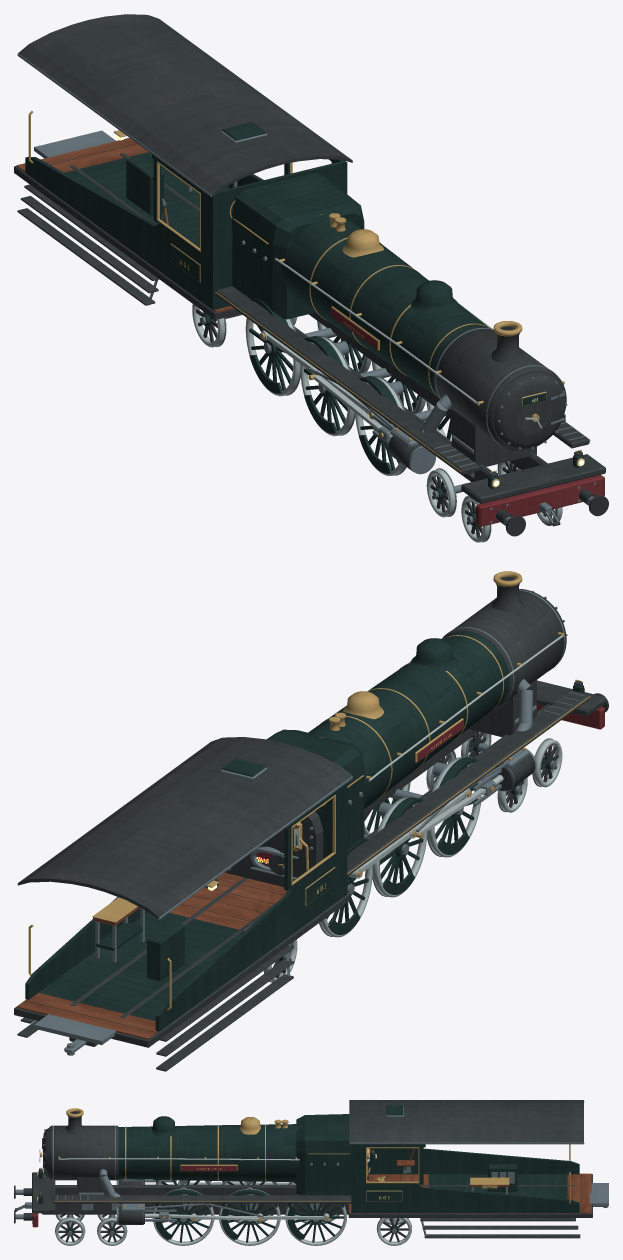
Rendered from Car01.fbx.
The picture shows the model from 3 angles, top to bottom: view 1: azimuth 30°, elevation 25°; view 2: azimuth 150°, elevation 25°; view 3: azimuth 270°, elevation 25°; orthographic projection. The views are drawn at different scales.
Parts seen in each view (by area): view 1: Engine_Frames, Engine_Boiler, Roof_Cab_Canopy, Engine_Smokebox, Cut_Cab_Port_Sheet, Cab_Front_Sheet, Driving_Wheelset_3, Driving_Wheelset_2, Engine_Leading_Truck, Engine_Cylinders_and_Valve_Gear, Driving_Wheelset_1, Driver's instrument room (+1 smaller); view 2: Engine_Frames, Roof_Cab_Canopy, Engine_Boiler, Cut_Cab_Port_Sheet, Engine_Smokebox, Driver's instrument room, Cab_Backhead_Instruments, Engine_Leading_Truck, Cab_Starboard_Sheet, Driving_Wheelset_1, Engine_Cylinders_and_Valve_Gear, Driving_Wheelset_2 (+1 smaller); view 3: Engine_Frames, Engine_Boiler, Roof_Cab_Canopy, Cab_Starboard_Sheet, Engine_Smokebox, Cut_Cab_Port_Sheet, Engine_Cylinders_and_Valve_Gear, Driving_Wheelset_2, Driving_Wheelset_3, Driving_Wheelset_1, Engine_Leading_Truck, Driver's instrument room (+1 smaller).
Boxes of the visible parts, bbox=[...] form: Engine_Frames: bbox=[14, 130, 608, 536]; Engine_Boiler: bbox=[231, 172, 564, 433]; Roof_Cab_Canopy: bbox=[17, 14, 352, 197]; Engine_Smokebox: bbox=[433, 327, 567, 466]; Cut_Cab_Port_Sheet: bbox=[25, 111, 216, 310]; Cab_Front_Sheet: bbox=[215, 161, 344, 309]; Driving_Wheelset_3: bbox=[245, 318, 371, 396]; Driving_Wheelset_2: bbox=[300, 336, 426, 436]; Engine_Leading_Truck: bbox=[426, 461, 562, 542]; Engine_Cylinders_and_Valve_Gear: bbox=[308, 368, 435, 474]; Driving_Wheelset_1: bbox=[355, 376, 451, 476]; Driver's instrument room: bbox=[113, 130, 237, 215]; Engine_Frames: bbox=[14, 680, 608, 1071]; Roof_Cab_Canopy: bbox=[17, 737, 352, 919]; Engine_Boiler: bbox=[266, 571, 564, 852]; Cut_Cab_Port_Sheet: bbox=[155, 783, 347, 1031]; Engine_Smokebox: bbox=[442, 589, 567, 736]; Driver's instrument room: bbox=[92, 880, 218, 981]; Cab_Backhead_Instruments: bbox=[225, 811, 323, 886]; Engine_Leading_Truck: bbox=[426, 731, 562, 812]; Cab_Starboard_Sheet: bbox=[25, 897, 147, 999]; Driving_Wheelset_1: bbox=[364, 757, 481, 857]; Engine_Cylinders_and_Valve_Gear: bbox=[415, 747, 536, 838]; Driving_Wheelset_2: bbox=[364, 797, 427, 897]; Engine_Frames: bbox=[14, 1172, 608, 1238]; Engine_Boiler: bbox=[58, 1108, 351, 1204]; Roof_Cab_Canopy: bbox=[349, 1100, 584, 1144]; Cab_Starboard_Sheet: bbox=[351, 1144, 579, 1212]; Engine_Smokebox: bbox=[39, 1125, 118, 1203]; Cut_Cab_Port_Sheet: bbox=[368, 1144, 579, 1174]; Engine_Cylinders_and_Valve_Gear: bbox=[116, 1179, 263, 1224]; Driving_Wheelset_2: bbox=[219, 1181, 280, 1245]; Driving_Wheelset_3: bbox=[285, 1182, 346, 1245]; Driving_Wheelset_1: bbox=[152, 1180, 214, 1245]; Engine_Leading_Truck: bbox=[55, 1214, 127, 1245]; Driver's instrument room: bbox=[470, 1164, 517, 1194].
Size of the model in its own units: 3.16 by 4.18 by 18.
Materials: 1 (1 with a texture image).
